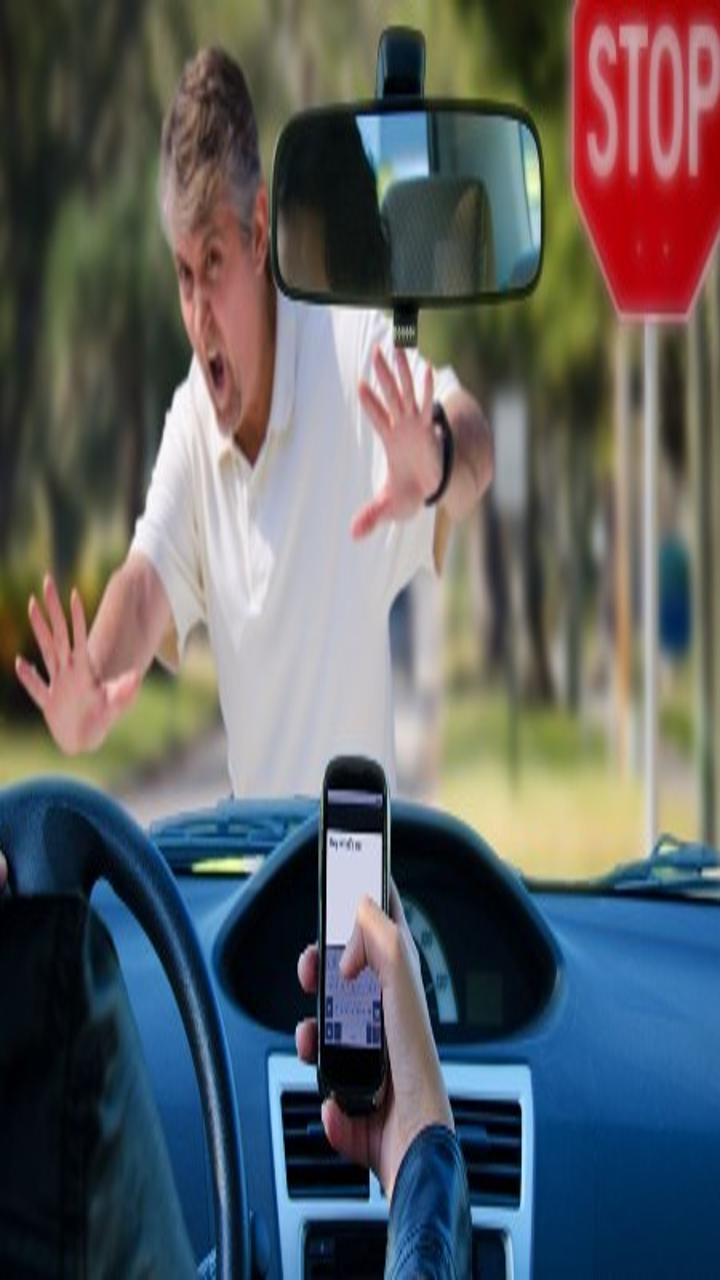Traffic sign: (560, 8, 720, 323)
pedestrian: (14, 33, 483, 781)
